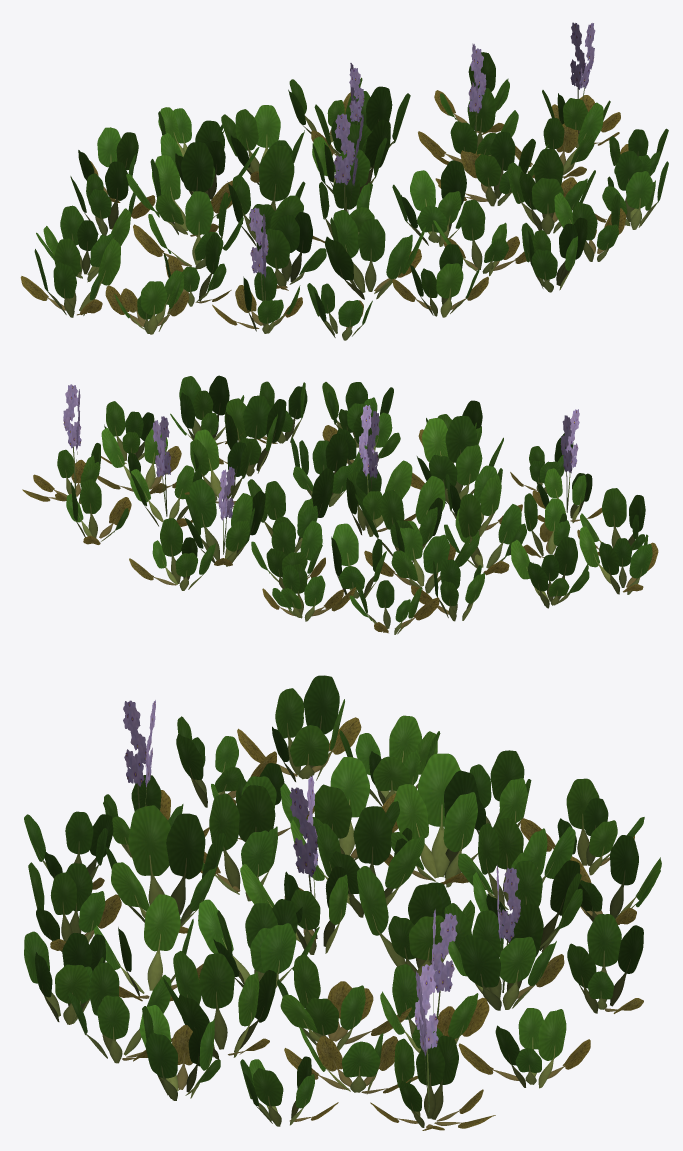
Rendered from hyacinth.glb.
The picture shows the model from 3 angles, top to bottom: view 1: azimuth 30°, elevation 25°; view 2: azimuth 150°, elevation 25°; view 3: azimuth 270°, elevation 25°; orthographic projection. The views are drawn at different scales.
Parts seen in each view (by area): view 1: hyacinth_leaves; view 2: hyacinth_leaves; view 3: hyacinth_leaves.
Boxes of the visible parts, bbox=[...] form: hyacinth_leaves: bbox=[20, 22, 668, 340]; hyacinth_leaves: bbox=[22, 375, 658, 634]; hyacinth_leaves: bbox=[24, 675, 661, 1130].
Bounding box in the file's own units: 3.22 × 0.6455 × 2.21.
Materials: 1 (1 with a texture image).
